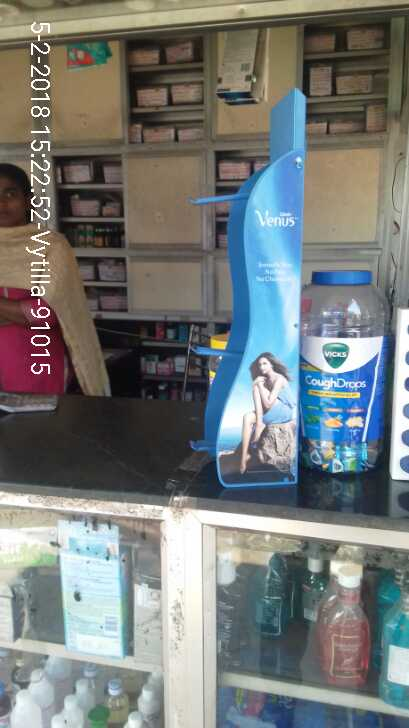reject: (137, 246, 220, 369)
